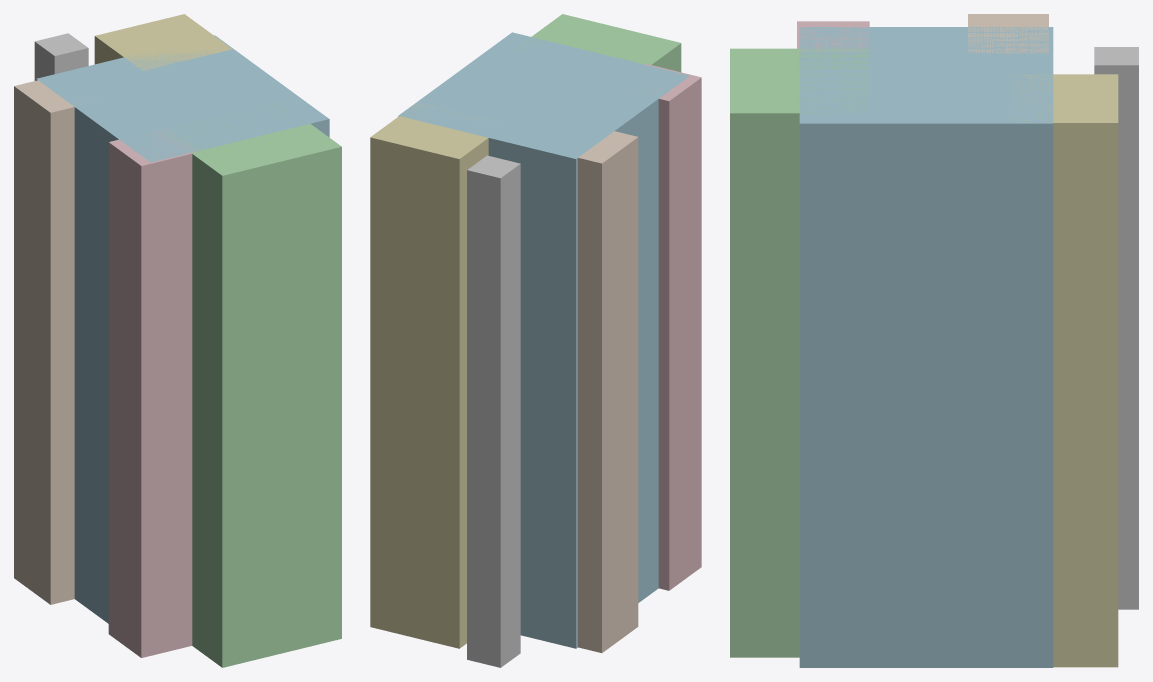
Rendered from floorplan_7dcb3754_epoch_0550.glb.
The picture shows the model from 3 angles, left to right: view 1: azimuth 30°, elevation 25°; view 2: azimuth 150°, elevation 25°; view 3: azimuth 270°, elevation 25°; orthographic projection. The views are drawn at different scales.
Visible parts, largest first — view 1: Master Room, Bathroom, Living Room, Kitchen, Second Room, Balcony; view 2: Living Room, Second Room, Kitchen, Balcony, Bathroom, Master Room; view 3: Living Room, Master Room, Second Room, Balcony, Kitchen, Bathroom.
Boxes of the visible parts, x1=… form: Master Room: x1=163, y1=102, x2=341, y2=667; Bathroom: x1=108, y1=128, x2=197, y2=657; Living Room: x1=36, y1=35, x2=329, y2=623; Kitchen: x1=14, y1=80, x2=89, y2=604; Second Room: x1=94, y1=14, x2=232, y2=70; Balcony: x1=34, y1=33, x2=88, y2=80; Living Room: x1=398, y1=32, x2=689, y2=648; Second Room: x1=370, y1=103, x2=503, y2=648; Kitchen: x1=578, y1=131, x2=638, y2=652; Balcony: x1=467, y1=155, x2=520, y2=667; Bathroom: x1=615, y1=63, x2=701, y2=590; Master Room: x1=505, y1=14, x2=681, y2=72; Living Room: x1=799, y1=27, x2=1053, y2=667; Master Room: x1=730, y1=48, x2=869, y2=657; Second Room: x1=1011, y1=74, x2=1118, y2=667; Balcony: x1=1094, y1=47, x2=1138, y2=609; Kitchen: x1=968, y1=14, x2=1048, y2=53; Bathroom: x1=797, y1=21, x2=869, y2=52.
Bounding box in the file's own units: 0.4315 × 1 × 0.6805.
